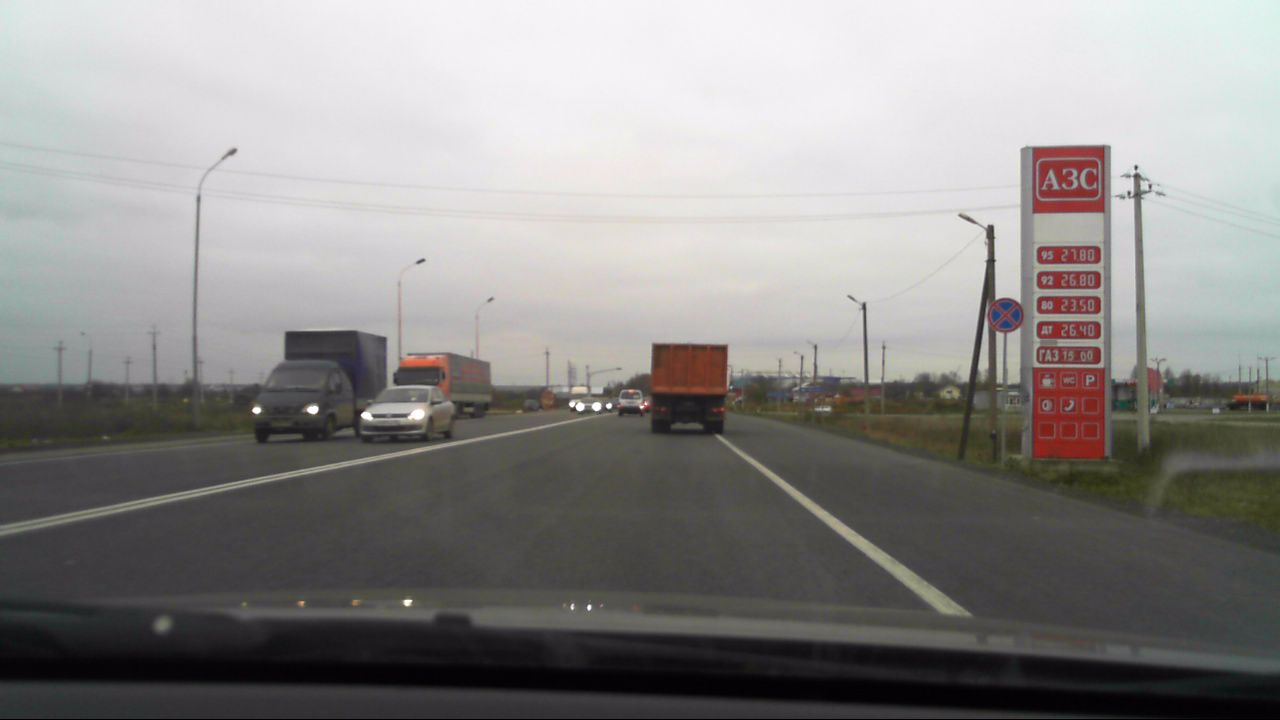No Parking: (983, 295, 1025, 334)
